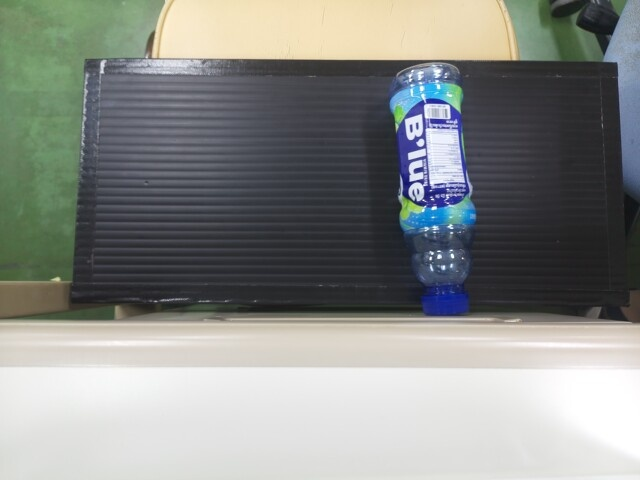plastic_bottle: (391, 52, 475, 307)
